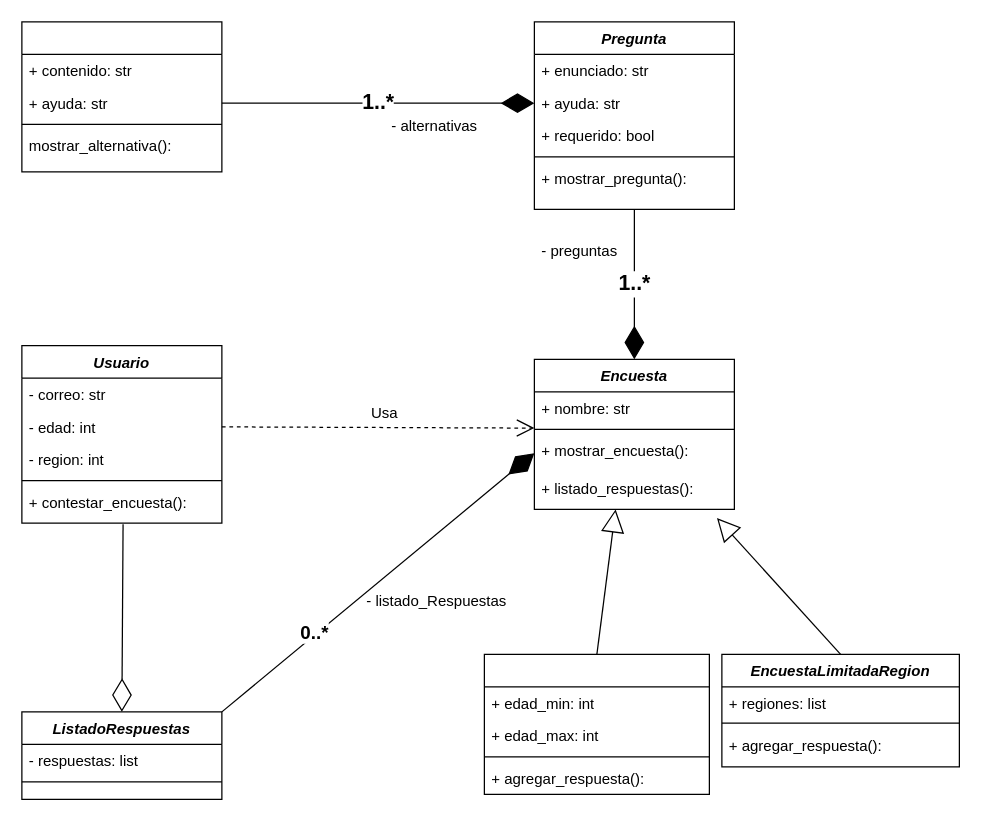
The diagram is 981 pixels wide and 821 high, and some of its shapes have lost their labels. The box of each missing label's shape, as (x1, y1, x2, y2) in pixels:
Alternativas: (21, 21, 222, 172)
EncuestaLimitadaEdad: (483, 653, 709, 794)
